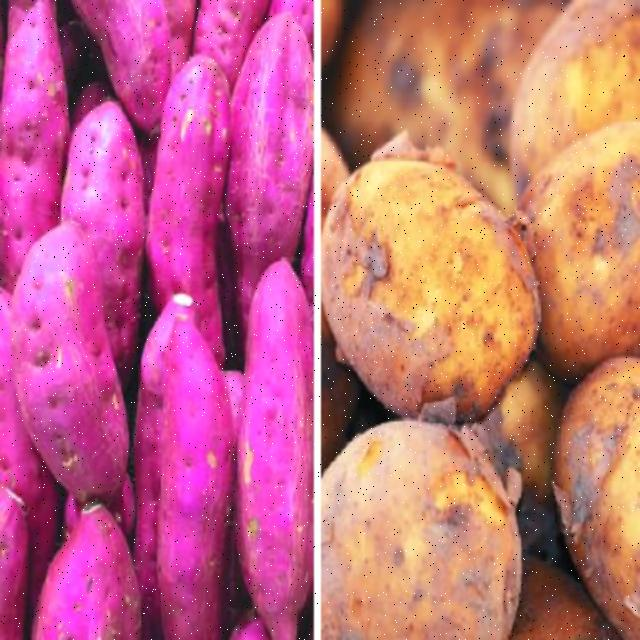Sweet Potato: (0, 216, 142, 519), (237, 238, 321, 638)
